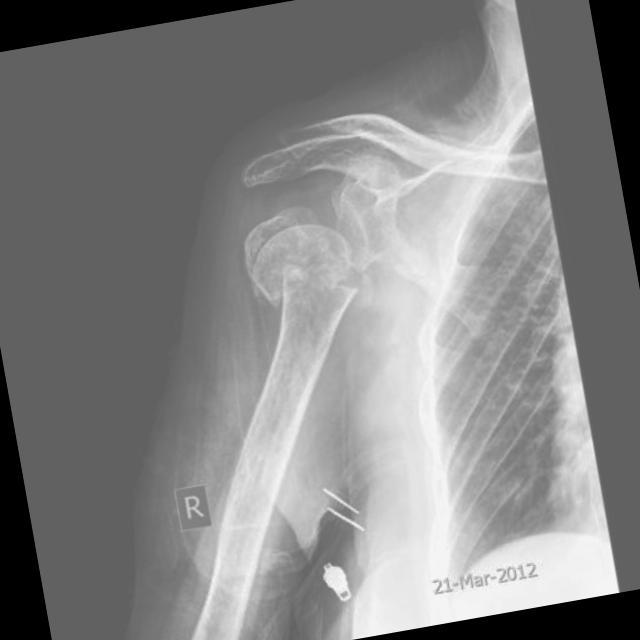Comminuted Fracture: (245, 112, 383, 224)
